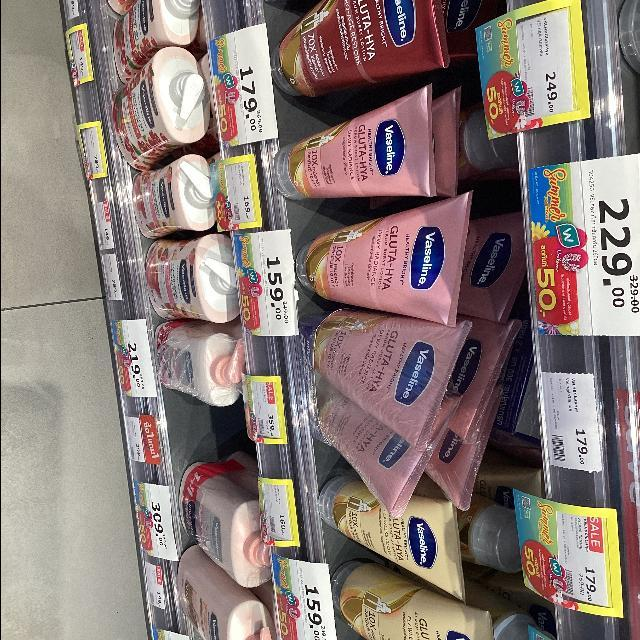Squeeze Tube: (241, 2, 544, 636)
